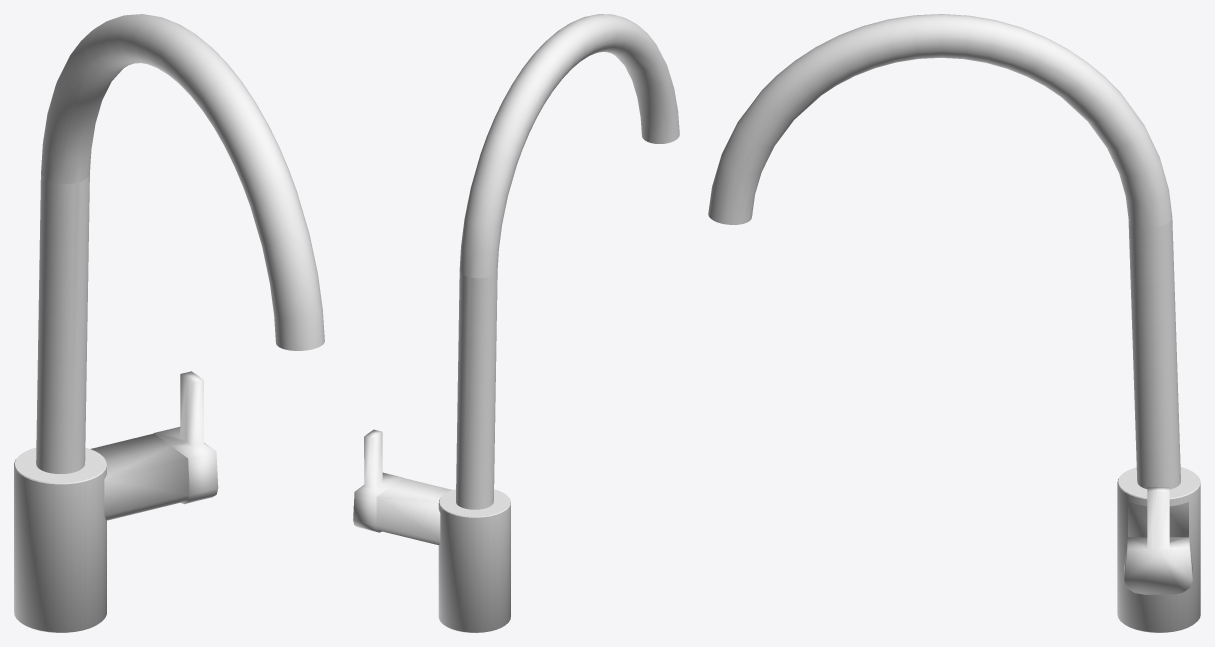
File: faucet_AlignChrome.glb
3 views of the same model, side by side, from view 1: azimuth 30°, elevation 25°; view 2: azimuth 150°, elevation 25°; view 3: azimuth 270°, elevation 25° (orthographic). The views are drawn at different scales.
Parts seen in each view (by area): view 1: Align Chrome; view 2: Align Chrome; view 3: Align Chrome.
Boxes of the visible parts, box(x1,y1,x2,y2) form: Align Chrome: box(14, 14, 324, 632); Align Chrome: box(353, 14, 679, 632); Align Chrome: box(708, 14, 1200, 632).
Bounding box in the file's own units: 0.131 × 0.47 × 0.3497.
Materials: 1 (1 with a texture image).
